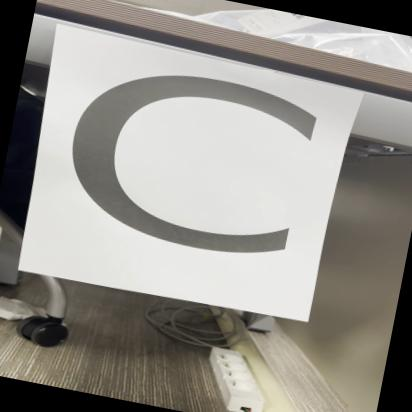seat: (23, 29, 352, 322)
